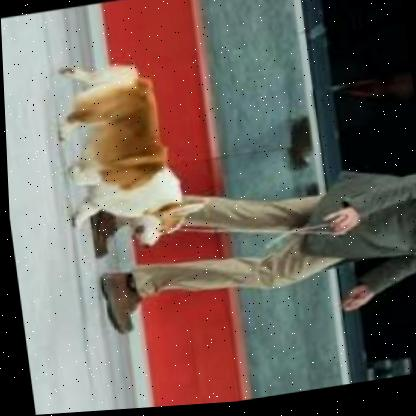dog: (42, 40, 213, 267)
